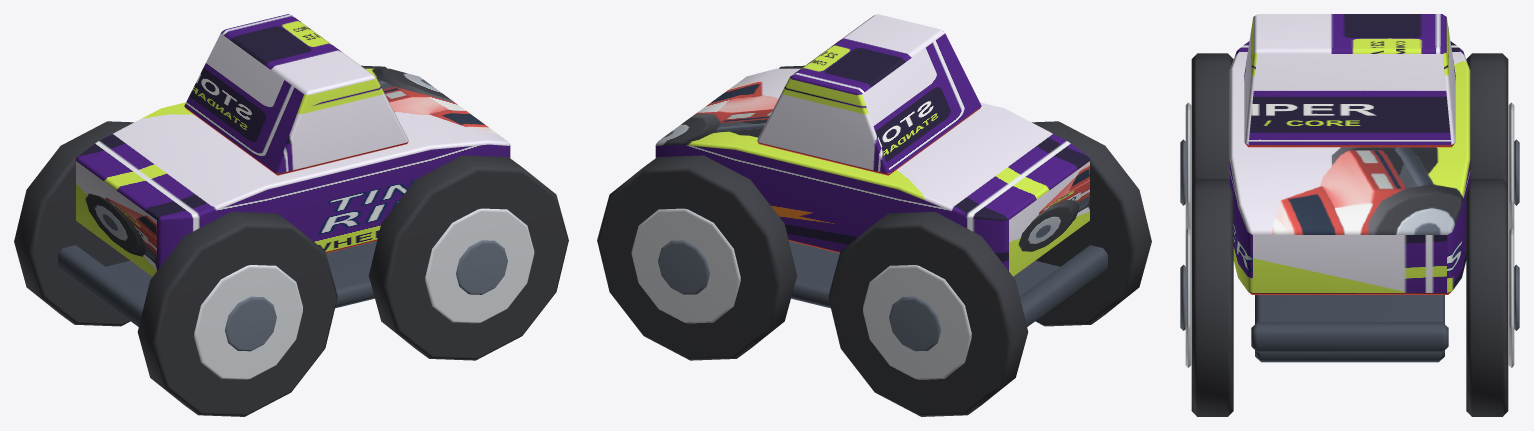
3 views of the same model, side by side, from view 1: azimuth 30°, elevation 25°; view 2: azimuth 150°, elevation 25°; view 3: azimuth 270°, elevation 25° (orthographic). The views are drawn at different scales.
Visible parts, largest first — view 1: BW-03_connected_shell, BW-03_cabin, Tire.002, Tire, Tire.001, Rim.002, Rim, underbody, front bumper, Hub.002, Hub; view 2: BW-03_connected_shell, BW-03_cabin, Tire.003, Tire.001, Tire, Rim.003, Rim.001, underbody, front bumper, Hub.003, Hub.001; view 3: BW-03_connected_shell, BW-03_cabin, Tire.002, Tire.003, underbody, rear bumper, Tire, Tire.001, Rim.002, Rim.003, Rim, Rim.001 (+4 smaller).
Part boxes in pixels (box(x1,y1,x2,y2)): BW-03_connected_shell: box(76, 68, 510, 276); BW-03_cabin: box(184, 14, 408, 175); Tire.002: box(368, 155, 568, 360); Tire: box(137, 211, 337, 416); Tire.001: box(14, 121, 133, 326); Rim.002: box(425, 208, 534, 323); Rim: box(194, 265, 302, 379); underbody: box(105, 241, 376, 308); front bumper: box(58, 245, 145, 326); Hub.002: box(456, 240, 507, 294); Hub: box(224, 296, 276, 351); BW-03_connected_shell: box(655, 68, 1089, 276); BW-03_cabin: box(757, 14, 981, 175); Tire.003: box(597, 155, 797, 360); Tire.001: box(828, 211, 1028, 416); Tire: box(1032, 121, 1151, 326); Rim.003: box(631, 208, 740, 323); Rim.001: box(863, 265, 971, 379); underbody: box(789, 241, 1060, 308); front bumper: box(1020, 245, 1107, 326); Hub.003: box(658, 240, 709, 294); Hub.001: box(889, 296, 941, 351); BW-03_connected_shell: box(1229, 41, 1470, 294); BW-03_cabin: box(1244, 14, 1455, 147); Tire.002: box(1191, 178, 1233, 416); Tire.003: box(1466, 178, 1508, 416); underbody: box(1255, 295, 1444, 362); rear bumper: box(1251, 322, 1448, 352); Tire: box(1191, 53, 1233, 183); Tire.001: box(1466, 53, 1508, 183); Rim.002: box(1185, 228, 1191, 367); Rim.003: box(1508, 228, 1514, 367); Rim: box(1185, 102, 1191, 229); Rim.001: box(1508, 102, 1514, 229).
Size of the model in its own units: 331 by 216 by 210.
